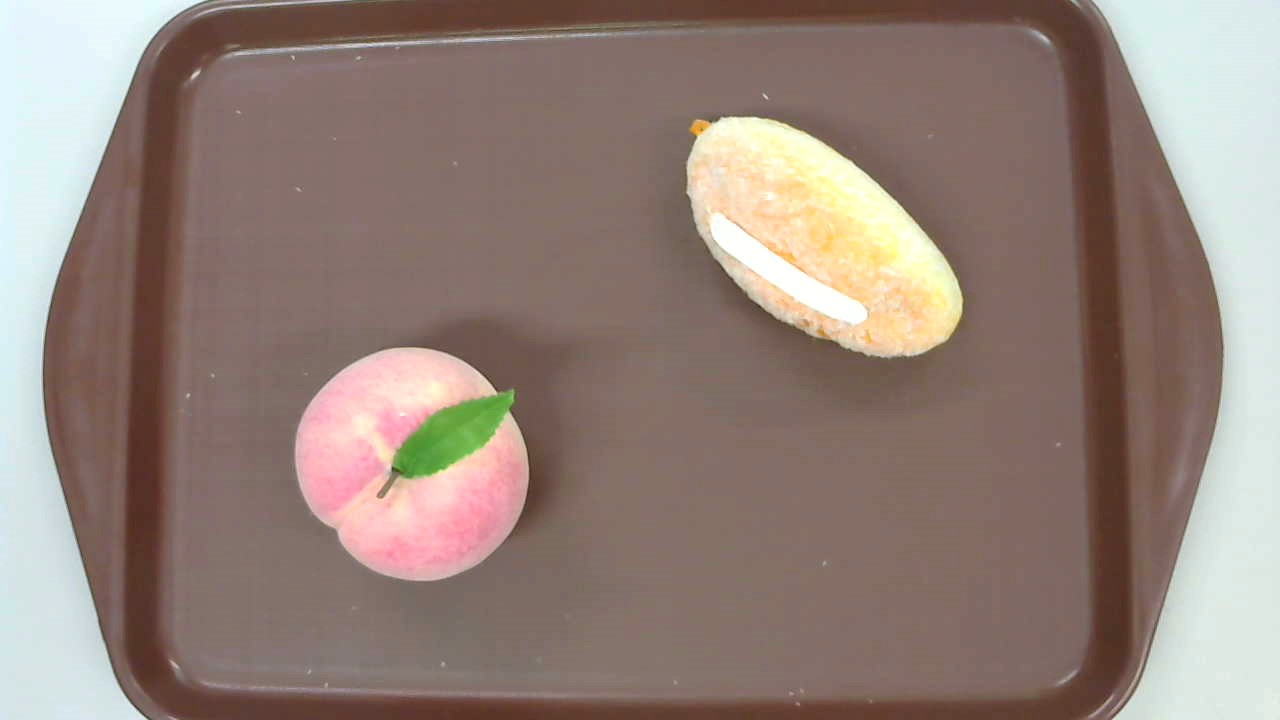coconut: (685, 117, 965, 359)
peach: (294, 347, 531, 582)
